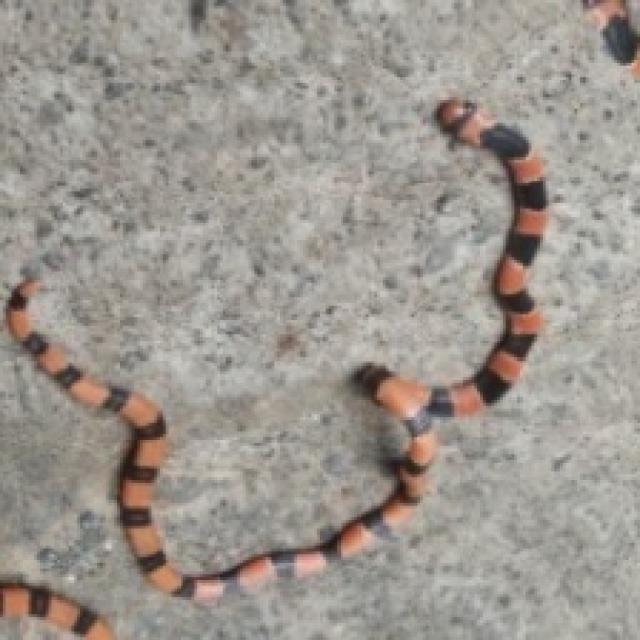barredcoral snake: (6, 97, 546, 603), (0, 582, 114, 639)
